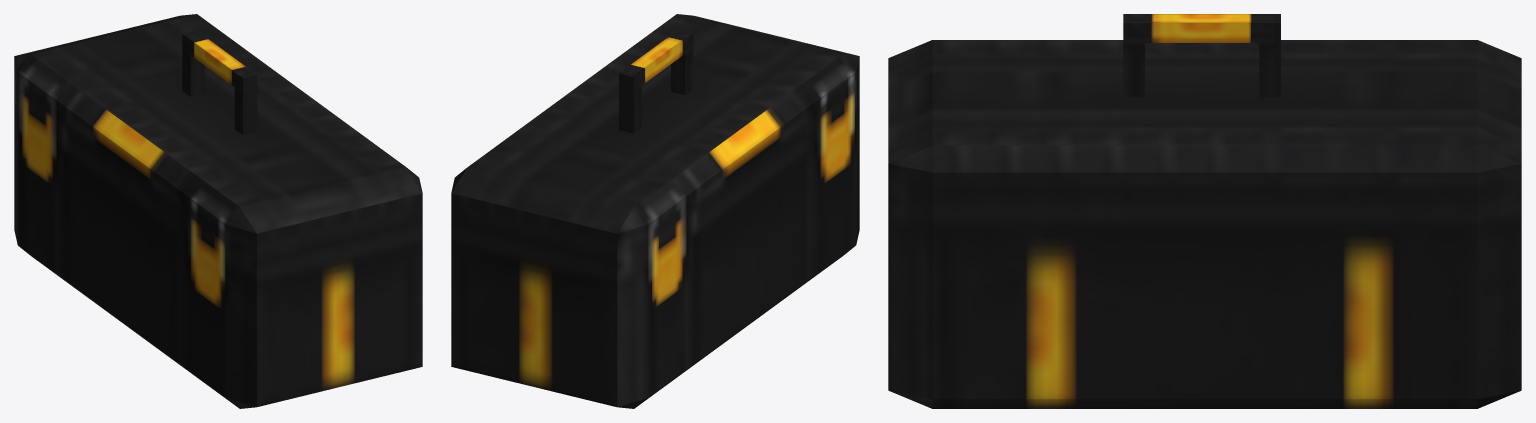
The model's file is ToolsBox2.fbx.
3 views of the same model, side by side, from view 1: azimuth 30°, elevation 25°; view 2: azimuth 150°, elevation 25°; view 3: azimuth 270°, elevation 25° (orthographic). The views are drawn at different scales.
Parts seen in each view (by area): view 1: ToolBox2.001; view 2: ToolBox2.001; view 3: ToolBox2.001.
Part boxes in pixels (<box>): ToolBox2.001: <box>14,14,422,408</box>; ToolBox2.001: <box>451,14,859,408</box>; ToolBox2.001: <box>888,14,1521,408</box>.
Bounding box in the file's own units: 340 × 435 × 740.
1 material, 1 textured.
